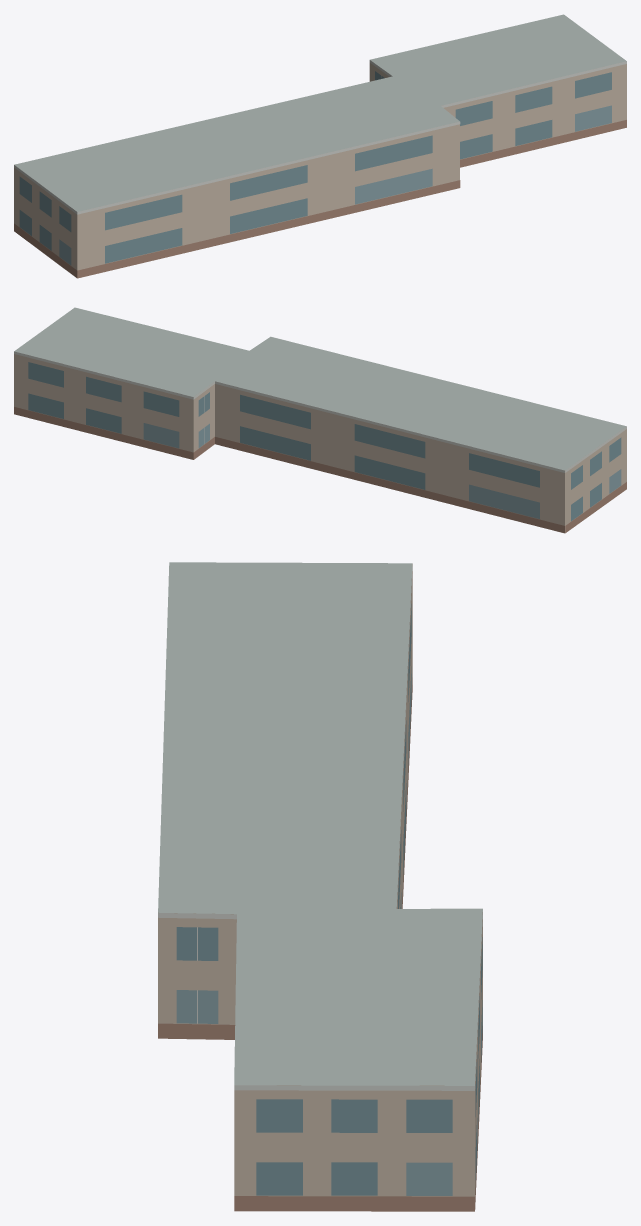
File: survey-upis-32869126.glb
3 renders of one model, top to bottom at view 1: azimuth 30°, elevation 25°; view 2: azimuth 150°, elevation 25°; view 3: azimuth 270°, elevation 25°, orthographic. The views are drawn at different scales.
Parts seen in each view (by area): view 1: survey-upis-32869126.tmp; view 2: survey-upis-32869126.tmp; view 3: survey-upis-32869126.tmp.
Part boxes in pixels (x1,y1,x2,y2): survey-upis-32869126.tmp: (14, 14, 626, 278); survey-upis-32869126.tmp: (14, 307, 626, 533); survey-upis-32869126.tmp: (158, 562, 482, 1211).
Bounding box in the file's own units: 54.47 × 6.1 × 14.3.
